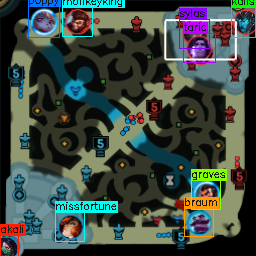akali: (1, 236, 17, 256)
braum: (187, 209, 211, 234)
graves: (194, 181, 217, 205)
kalista: (233, 10, 256, 35)
missfortune: (59, 215, 82, 239)
monkeyking: (65, 8, 89, 33)
poppy: (31, 9, 57, 34)
sylas: (182, 20, 207, 45)
taric: (187, 36, 209, 58)
